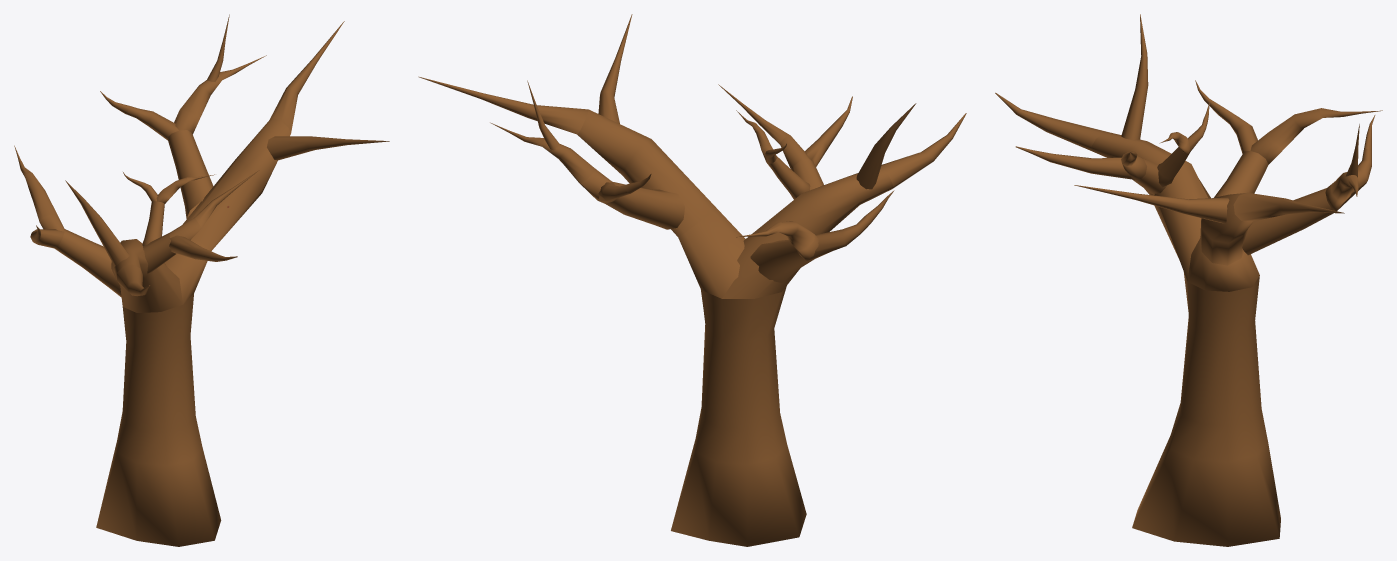
Rendered from Drzewo.fbx.
3 views of the same model, side by side, from view 1: azimuth 30°, elevation 25°; view 2: azimuth 150°, elevation 25°; view 3: azimuth 270°, elevation 25° (orthographic). The views are drawn at different scales.
Visible parts, largest first — view 1: Cylinder; view 2: Cylinder; view 3: Cylinder.
Boxes of the visible parts, x1=… form: Cylinder: x1=14, y1=14, x2=389, y2=546; Cylinder: x1=418, y1=14, x2=966, y2=546; Cylinder: x1=995, y1=14, x2=1382, y2=546.
Bounding box in the file's own units: 688 × 739 × 555.
Materials: 1 (1 with a texture image).
